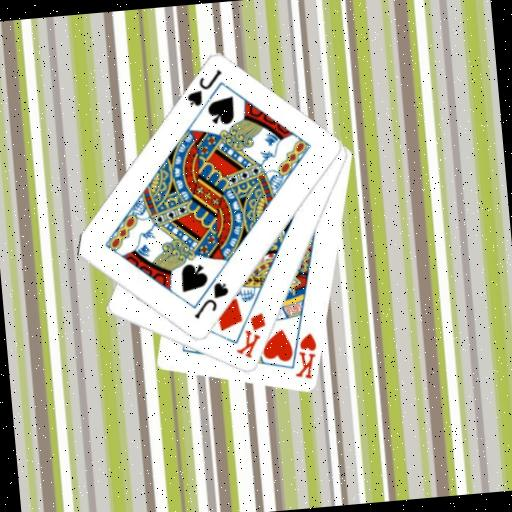JS: (181, 66, 226, 110), (189, 279, 233, 322)
KD: (230, 310, 271, 362)
KH: (289, 329, 321, 382)
